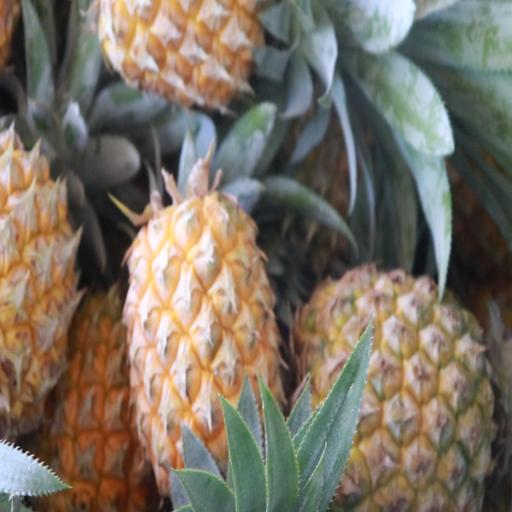Pineapple - v8 v1: (295, 269, 495, 512), (128, 200, 284, 508), (96, 0, 330, 119), (46, 286, 156, 512)
